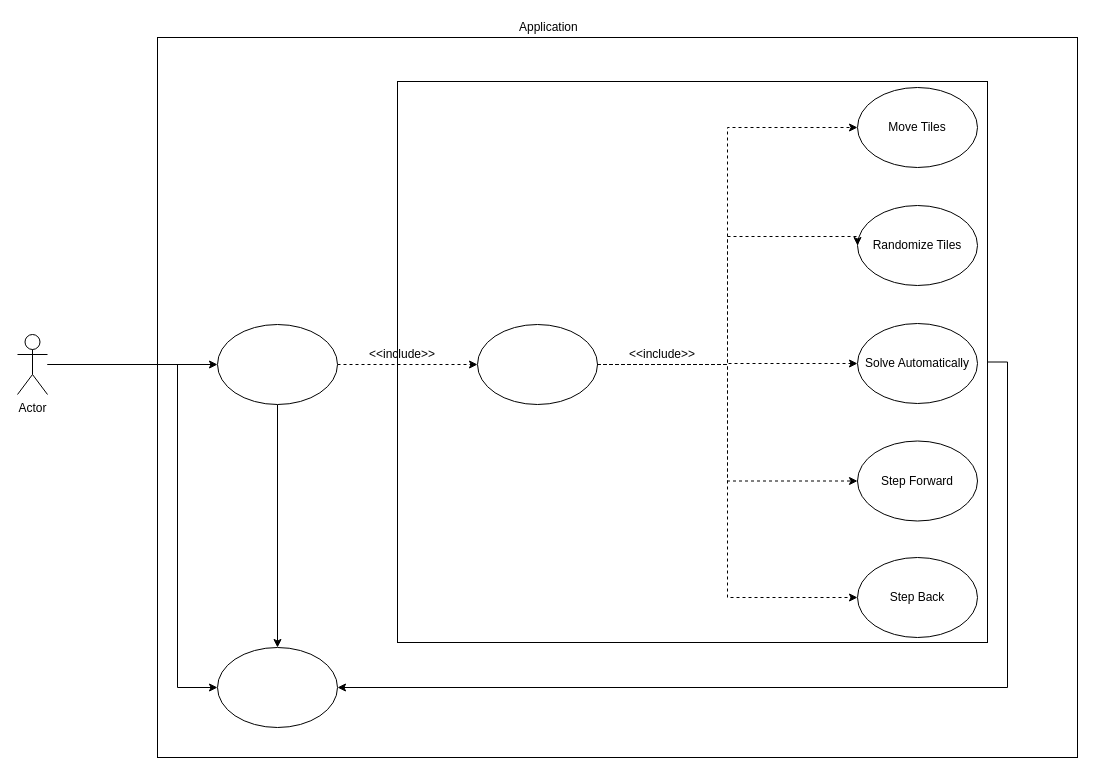
Image size: 1095x775. Some labels were removed from this diagram. The box of each missing label's shape, as (x1, y1, x2, y2) in pixels:
Close Game: (216, 646, 338, 728)
Select Level Picture: (476, 324, 598, 404)
Start Game: (216, 324, 338, 404)
